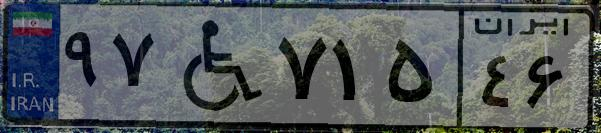1: (330, 28, 385, 110)
4: (475, 38, 525, 113)
5: (385, 28, 445, 110)
6: (525, 38, 570, 115)
7: (270, 28, 330, 110), (110, 28, 158, 98)
9: (57, 26, 110, 100)
ژ (معلولین و جانبازان): (158, 12, 270, 120)
